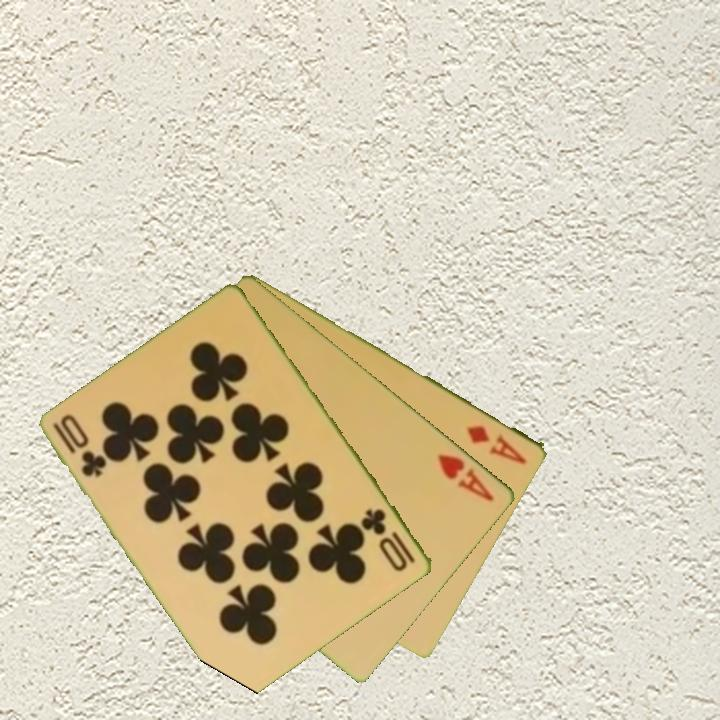10c: (358, 505, 419, 575), (50, 419, 109, 480)
Ad: (463, 421, 530, 467)
Ah: (434, 450, 498, 505)
